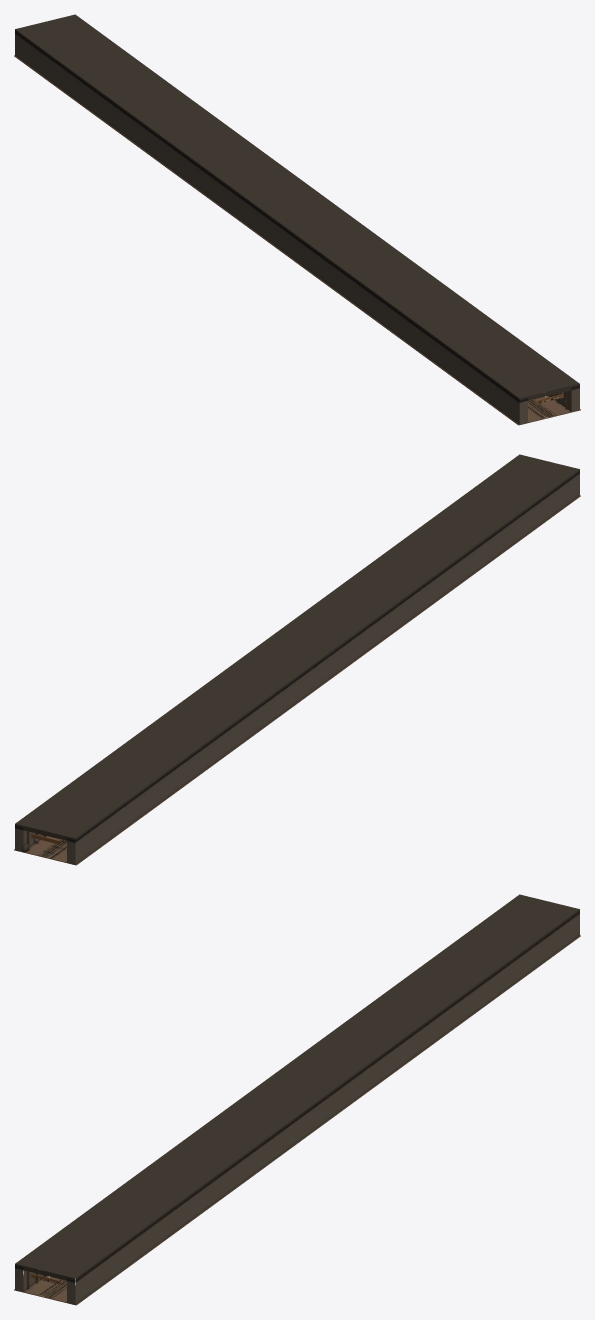
Rendered from mina.glb.
The picture shows the model from 3 angles, top to bottom: view 1: azimuth 30°, elevation 25°; view 2: azimuth 150°, elevation 25°; view 3: azimuth 330°, elevation 25°; orthographic projection.
Visible parts, largest first — view 1: mina; view 2: mina; view 3: mina.
Part boxes in pixels (x1,y1,x2,y2): mina: (14, 14, 580, 425); mina: (14, 454, 580, 865); mina: (14, 894, 580, 1305).
Bounding box in the file's own units: 30 × 13.11 × 421.
Materials: 1 (1 with a texture image).
